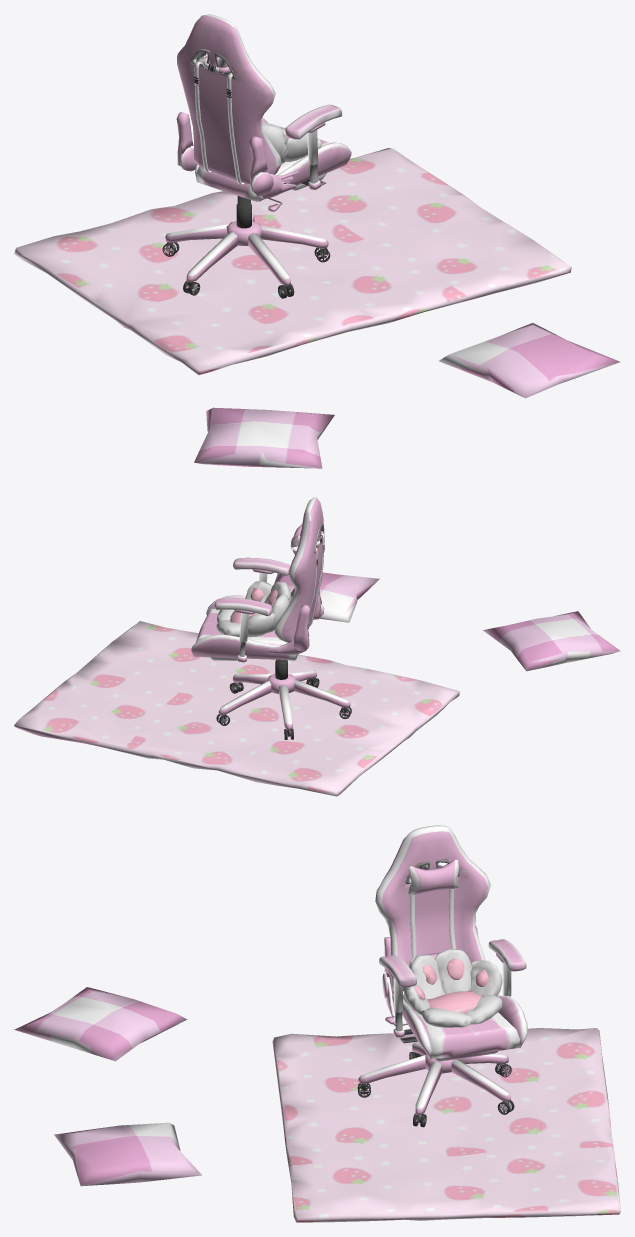
File: chair.gltf
3 renders of one model, top to bottom at view 1: azimuth 30°, elevation 25°; view 2: azimuth 150°, elevation 25°; view 3: azimuth 270°, elevation 25°, orthographic. The views are drawn at different scales.
Visible parts, largest first — view 1: tatami_Baked; view 2: tatami_Baked; view 3: tatami_Baked.
Boxes of the visible parts, bbox=[...] form: tatami_Baked: bbox=[14, 14, 620, 468]; tatami_Baked: bbox=[14, 497, 620, 796]; tatami_Baked: bbox=[14, 825, 620, 1222].
Bounding box in the file's own units: 14.19 × 7.73 × 15.89.
